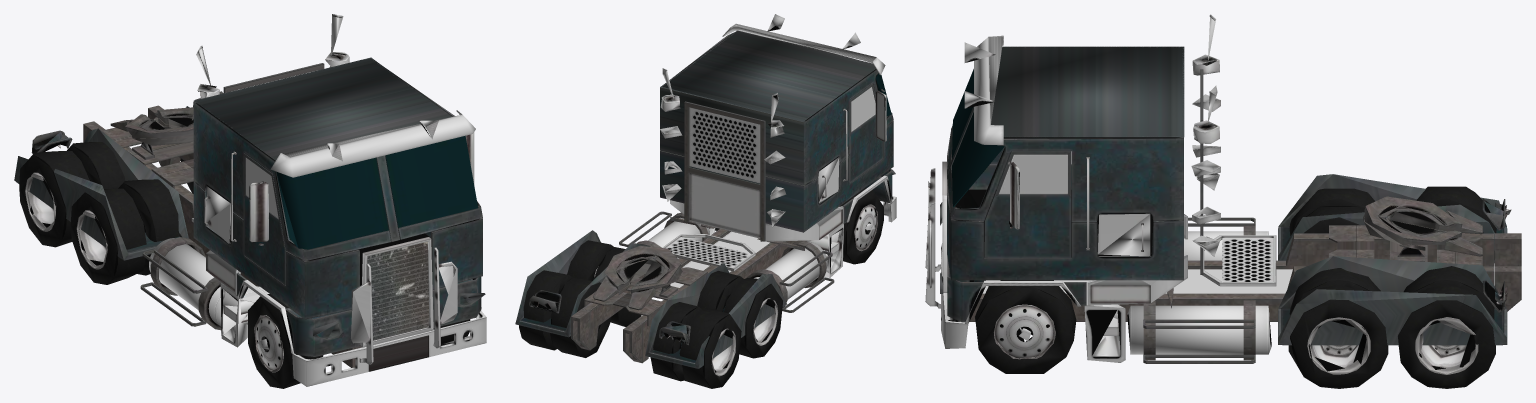
File: semi-cab.zfix-v1.lod0.glb
The picture shows the model from 3 angles, left to right: view 1: azimuth 30°, elevation 25°; view 2: azimuth 150°, elevation 25°; view 3: azimuth 270°, elevation 25°; orthographic projection. The views are drawn at different scales.
Parts seen in each view (by area): view 1: truck_main_body_truck_main_body_baked_0, chrome_pieces_truck_chrome_pieces_baked_0, rear_wheel_set_1_R_truck_wheels_baked_0; view 2: truck_main_body_truck_main_body_baked_0, chrome_pieces_truck_chrome_pieces_baked_0, rear_wheel_set_1_R_truck_wheels_baked_0; view 3: truck_main_body_truck_main_body_baked_0, chrome_pieces_truck_chrome_pieces_baked_0, rear_wheel_set_1_R_truck_wheels_baked_0.
Part boxes in pixels (bbox=[...]): truck_main_body_truck_main_body_baked_0: bbox=[14, 57, 485, 367]; chrome_pieces_truck_chrome_pieces_baked_0: bbox=[149, 14, 486, 386]; rear_wheel_set_1_R_truck_wheels_baked_0: bbox=[19, 142, 470, 388]; truck_main_body_truck_main_body_baked_0: bbox=[515, 30, 895, 368]; chrome_pieces_truck_chrome_pieces_baked_0: bbox=[648, 14, 896, 299]; rear_wheel_set_1_R_truck_wheels_baked_0: bbox=[519, 188, 883, 388]; truck_main_body_truck_main_body_baked_0: bbox=[940, 46, 1521, 363]; chrome_pieces_truck_chrome_pieces_baked_0: bbox=[925, 14, 1292, 362]; rear_wheel_set_1_R_truck_wheels_baked_0: bbox=[975, 186, 1496, 388].
Size of the model in its own units: 3.51 by 3.89 by 7.39.
Materials: 3 (3 with a texture image).
